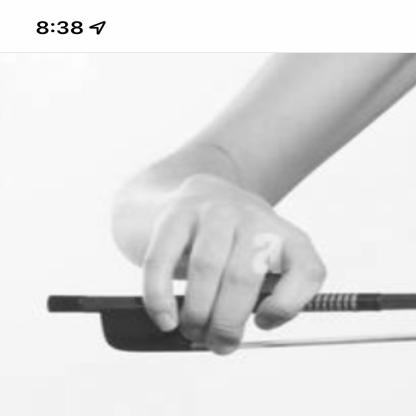bad: (121, 186, 329, 371)
